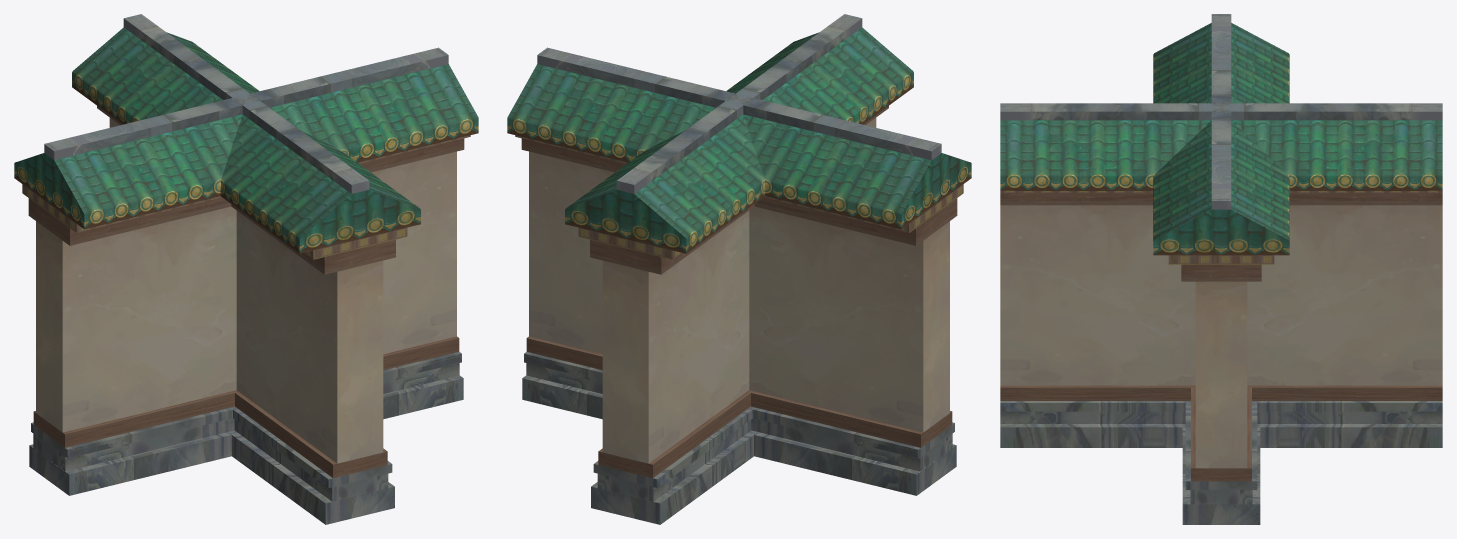
The model's file is Homeworld_Exterior_Ly_Build_Wall_05_Vo.fbx.
3 renders of one model, left to right at view 1: azimuth 30°, elevation 25°; view 2: azimuth 150°, elevation 25°; view 3: azimuth 270°, elevation 25°, orthographic. The views are drawn at different scales.
Parts seen in each view (by area): view 1: Homeworld_Exterior_Ly_Build_Wall_05_Vo; view 2: Homeworld_Exterior_Ly_Build_Wall_05_Vo; view 3: Homeworld_Exterior_Ly_Build_Wall_05_Vo.
Boxes of the visible parts, bbox=[...] form: Homeworld_Exterior_Ly_Build_Wall_05_Vo: bbox=[14, 14, 478, 524]; Homeworld_Exterior_Ly_Build_Wall_05_Vo: bbox=[507, 14, 971, 524]; Homeworld_Exterior_Ly_Build_Wall_05_Vo: bbox=[1000, 14, 1442, 524].
Size of the model in its own units: 5 by 4.04 by 5.
